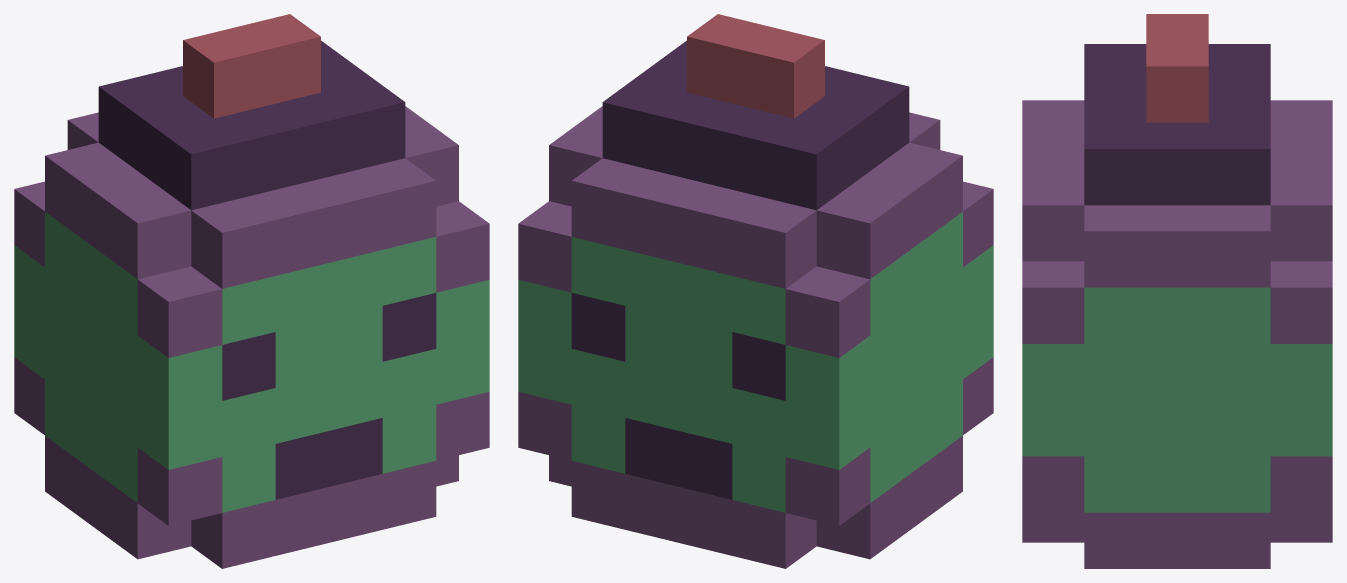
File: poison.obj
3 views of the same model, side by side, from view 1: azimuth 30°, elevation 25°; view 2: azimuth 150°, elevation 25°; view 3: azimuth 270°, elevation 25° (orthographic).
Parts seen in each view (by area): view 1: poison; view 2: poison; view 3: poison.
Part boxes in pixels (x1,y1,x2,y2): poison: (14,14,489,568); poison: (518,14,993,568); poison: (1022,14,1332,568).
Bounding box in the file's own units: 3.34 × 4.45 × 2.78.
